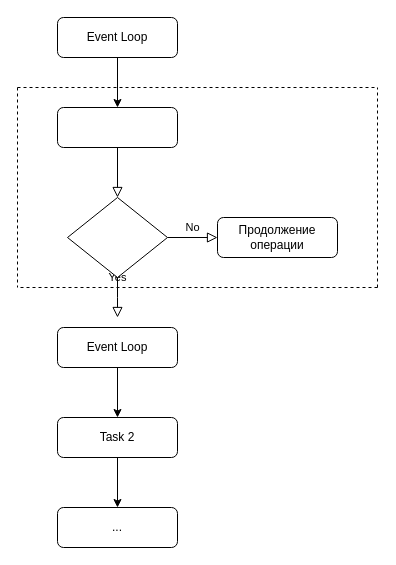
The diagram is 396 pixels wide and 565 high, and some of its shapes have lost their labels. The shapes that lost their labels are listed below. From the top down, each one's centre as x and y in pixels, then its label:
the point at 117,127: Task 1
the point at 117,237: I/O, Sleep?
